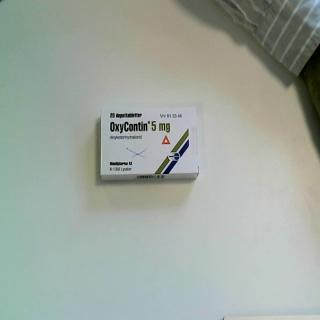oxycontin5mg: (100, 105, 201, 183)
